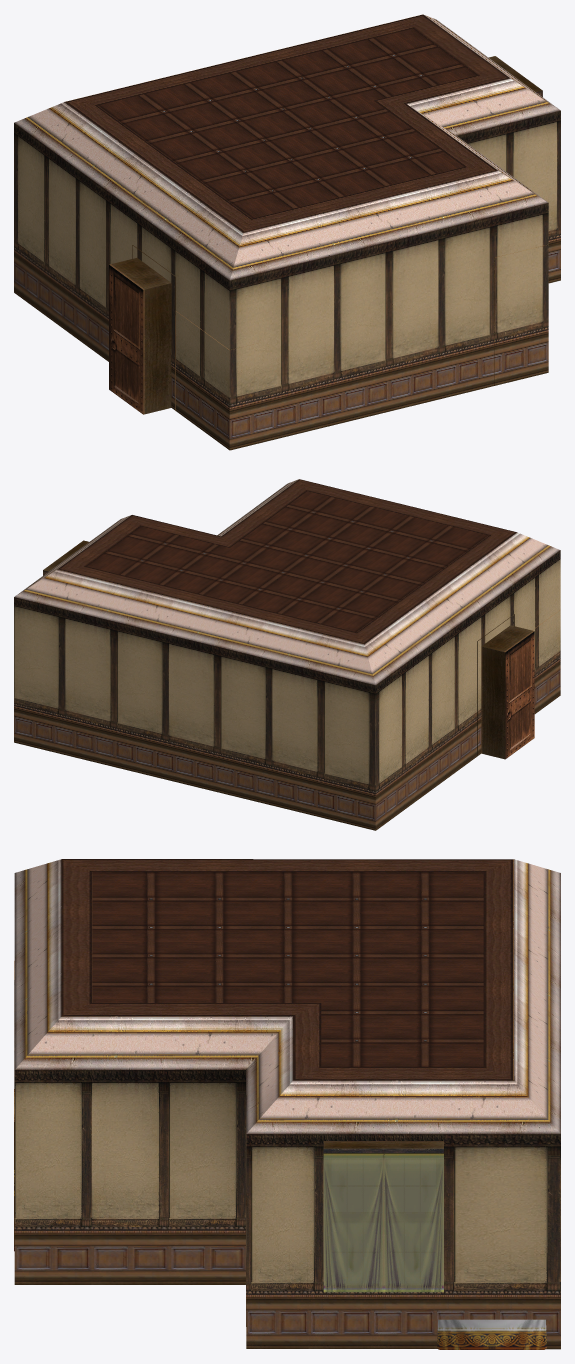
3 views of the same model, one above another, from view 1: azimuth 30°, elevation 25°; view 2: azimuth 150°, elevation 25°; view 3: azimuth 270°, elevation 25° (orthographic). The views are drawn at different scales.
Visible parts, largest first — view 1: rd_r2-col; view 2: rd_r2-col; view 3: rd_r2-col.
Part boxes in pixels (left/top/right/bottom): rd_r2-col: left=14, top=14, right=560, bottom=450; rd_r2-col: left=14, top=479, right=560, bottom=830; rd_r2-col: left=14, top=859, right=560, bottom=1349.
Size of the model in its own units: 8.56 by 3.47 by 6.92.
14 materials, 14 textured.
